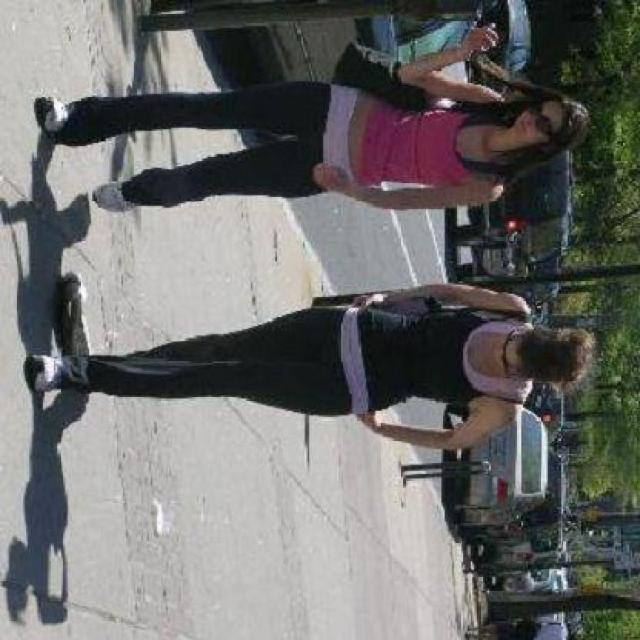Person: (36, 21, 587, 214), (22, 276, 601, 450)
